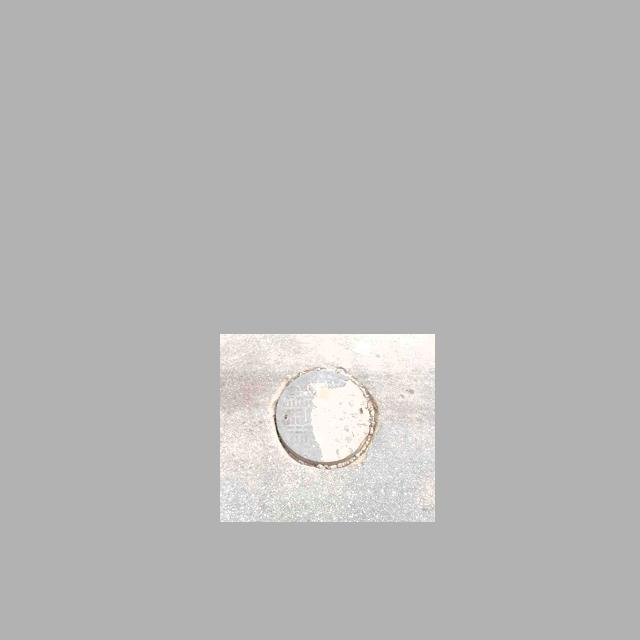circle: (269, 360, 383, 471)
